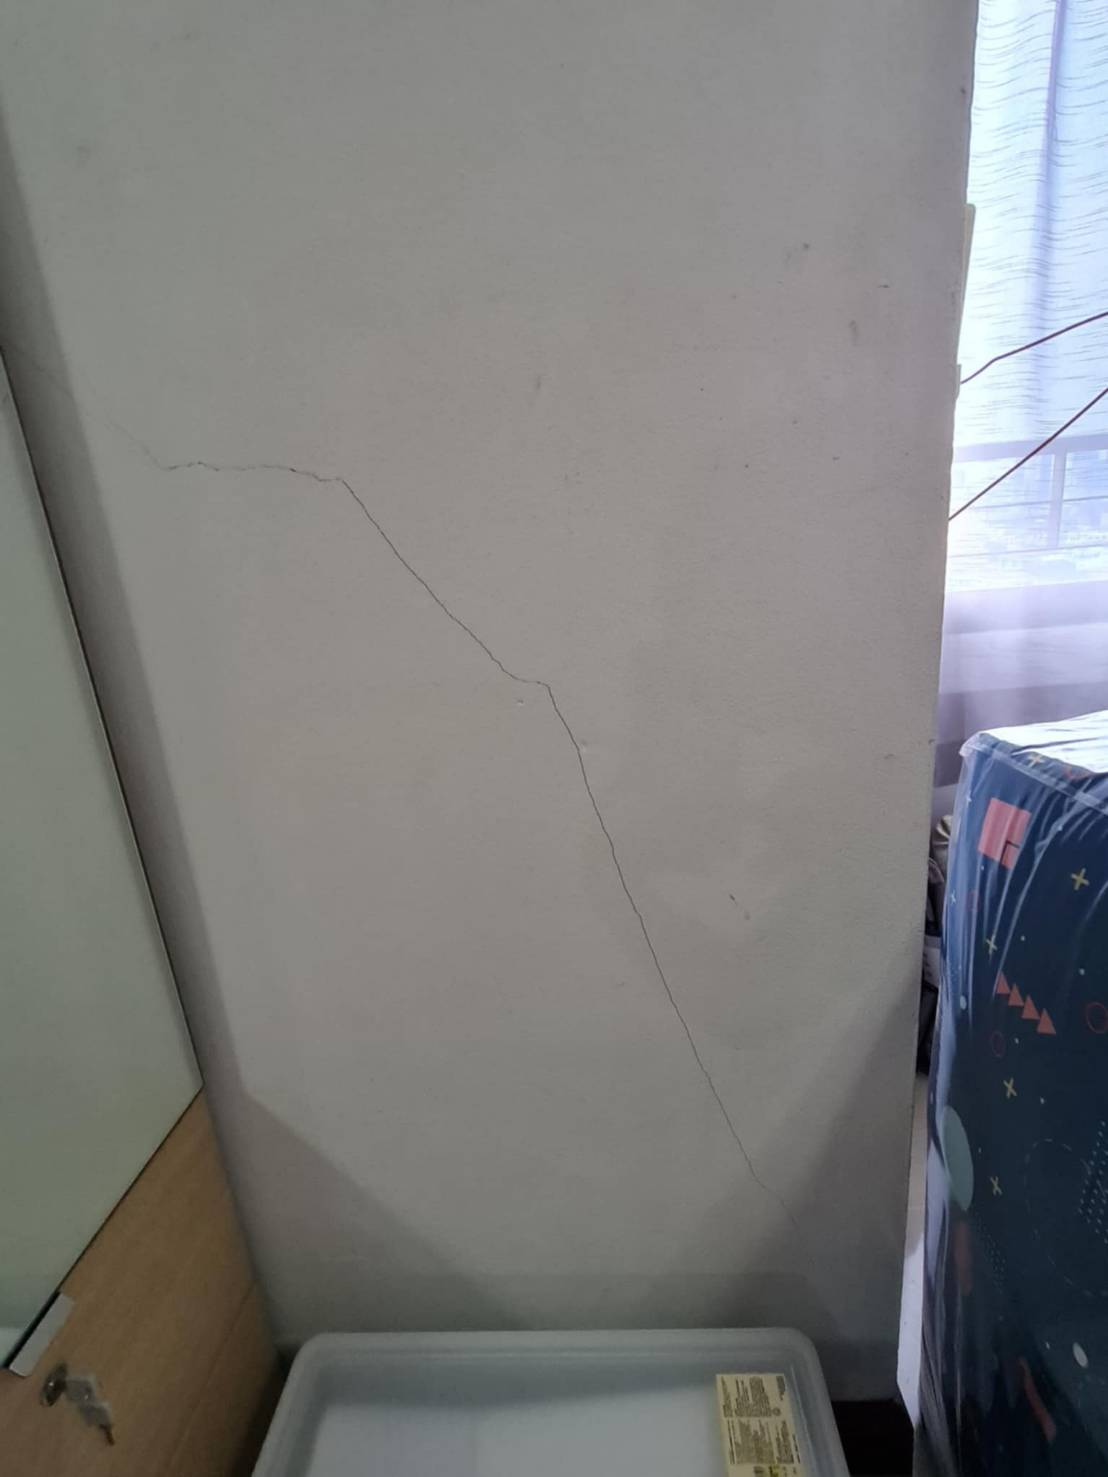Low: (27, 331, 890, 1262)
